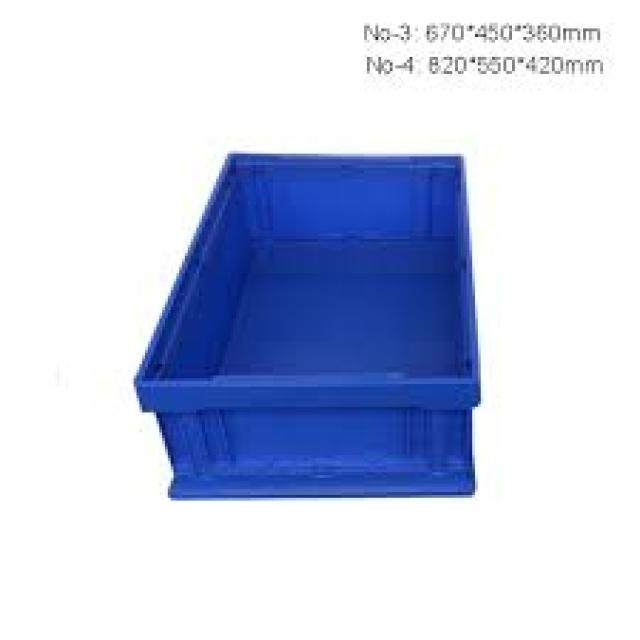basket: (135, 152, 483, 502)
